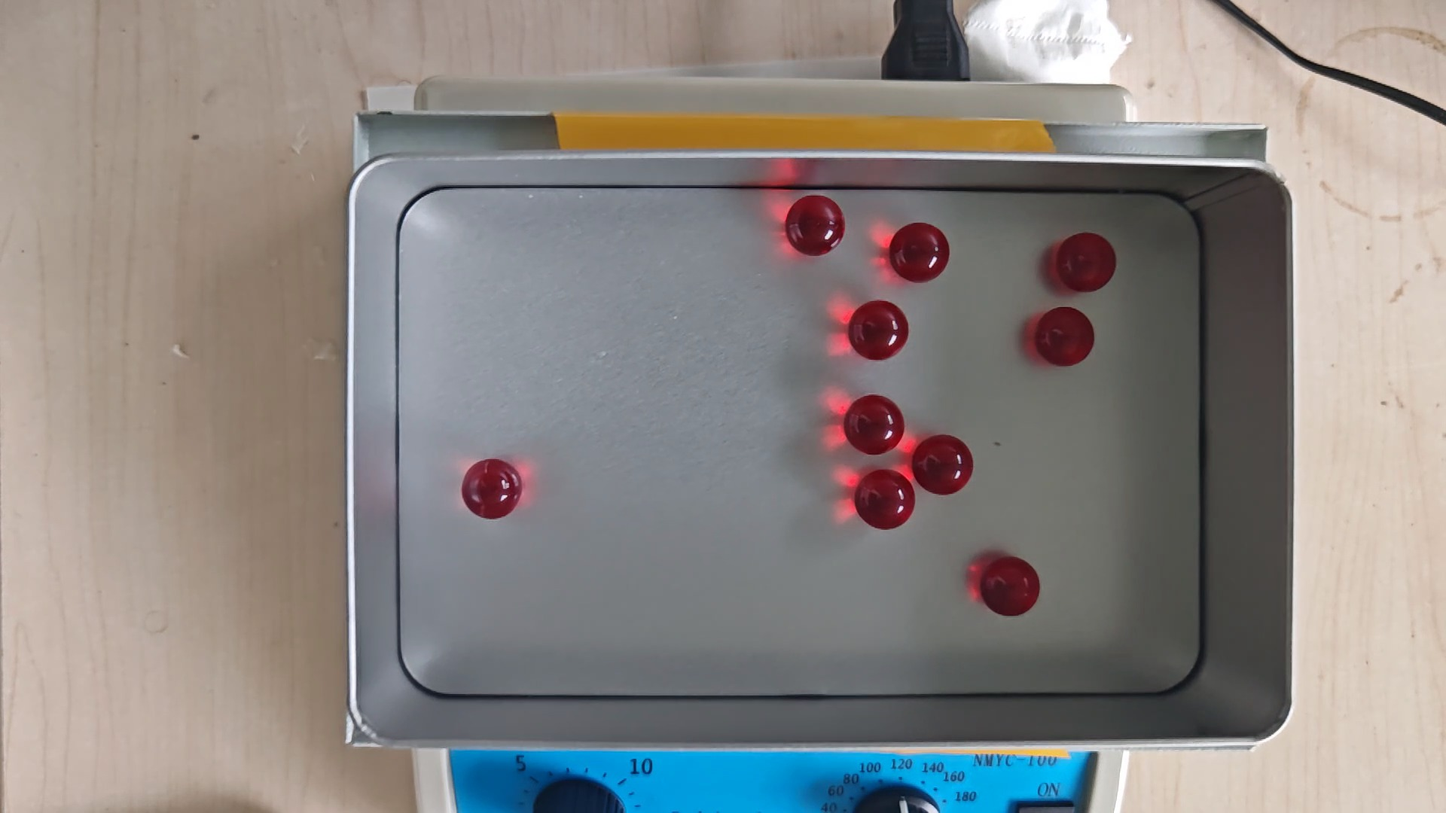ball: (785, 194, 846, 256), (848, 299, 909, 361), (462, 457, 522, 520), (1056, 232, 1117, 293), (980, 556, 1041, 617), (844, 394, 905, 455), (856, 469, 916, 531), (913, 434, 973, 496), (1035, 307, 1095, 367), (890, 222, 949, 283)
container: (397, 187, 1202, 696)
